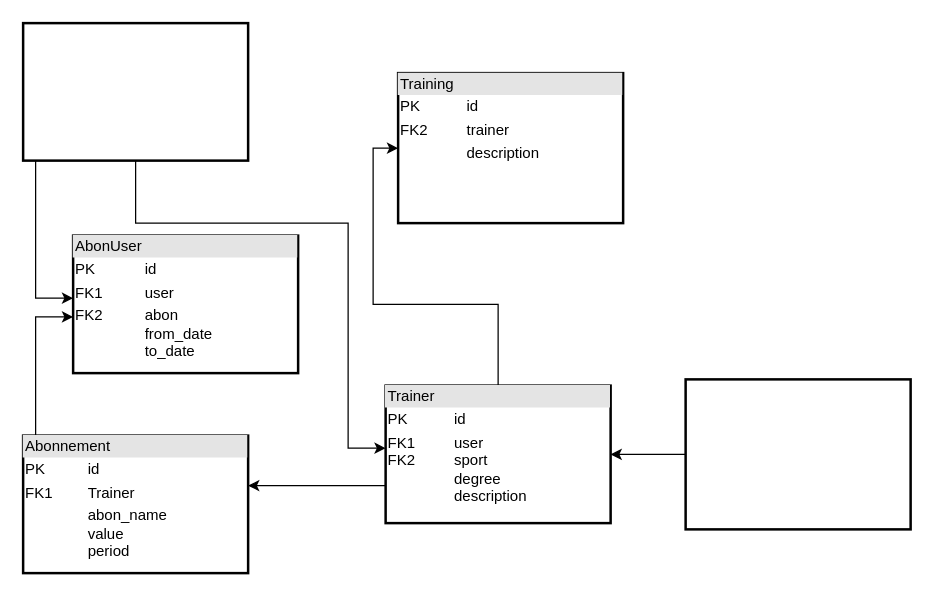
Image size: 933x595. Some labels were removed from this diagram. The centre of each missing label's shape, as x and y in pixels:
Sport PK id sport: the point at 797,454
User PK id last_name first_name email password: the point at 135,91
